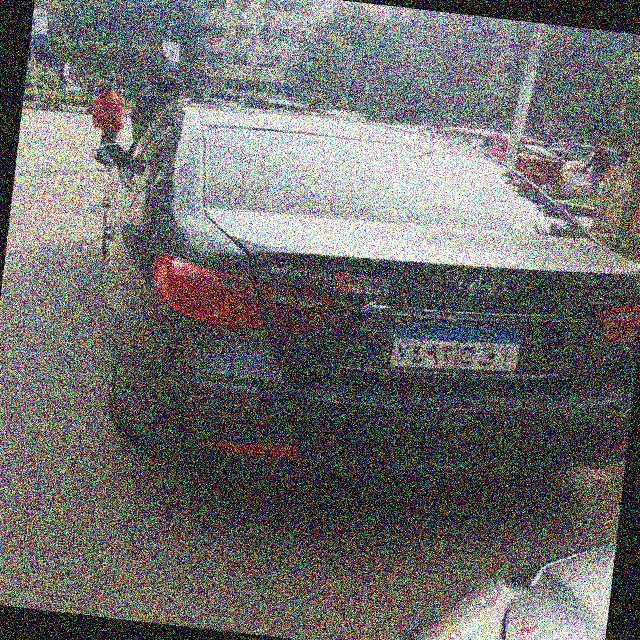License Plate: (389, 311, 528, 383)
